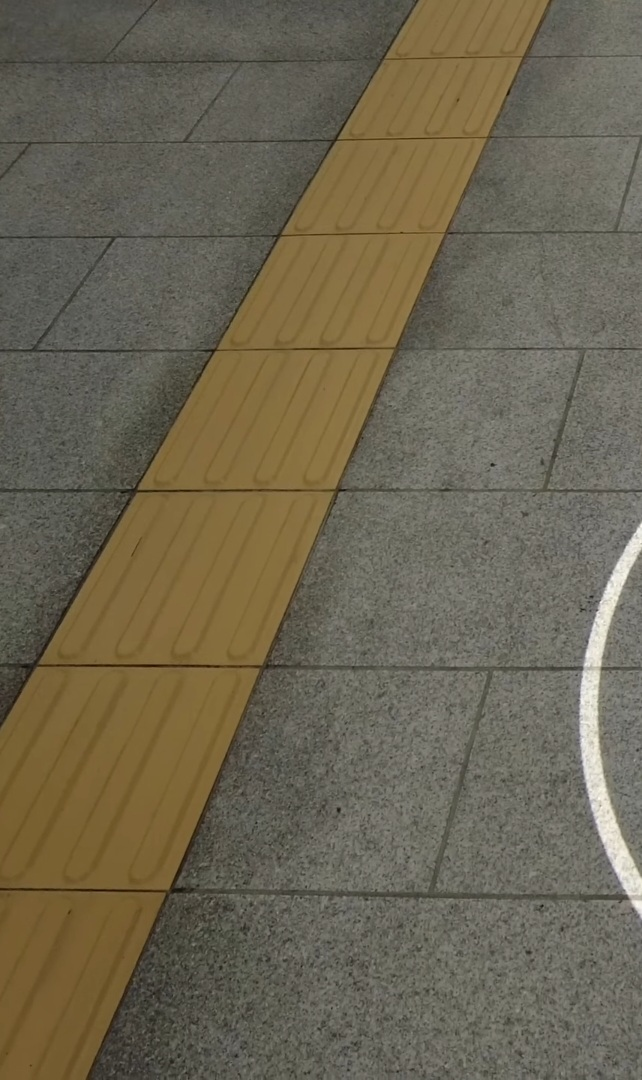guideBlock: (20, 679, 220, 892), (83, 486, 290, 665), (232, 239, 460, 382), (149, 363, 372, 484), (291, 143, 477, 228), (359, 71, 516, 137), (401, 6, 537, 70)
